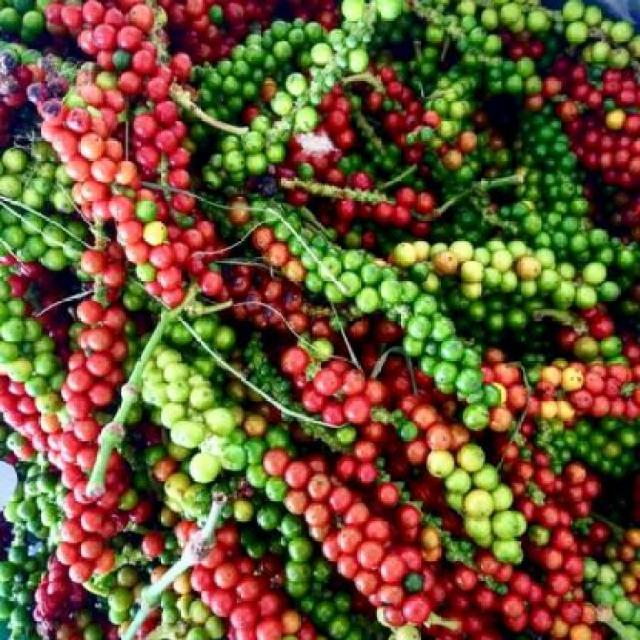RIPE: (91, 3, 218, 294), (268, 457, 449, 620), (497, 437, 598, 634), (65, 294, 120, 577), (197, 553, 291, 639), (560, 74, 640, 165)
UNRIPE: (443, 171, 620, 312), (359, 6, 493, 68), (237, 25, 349, 89)
